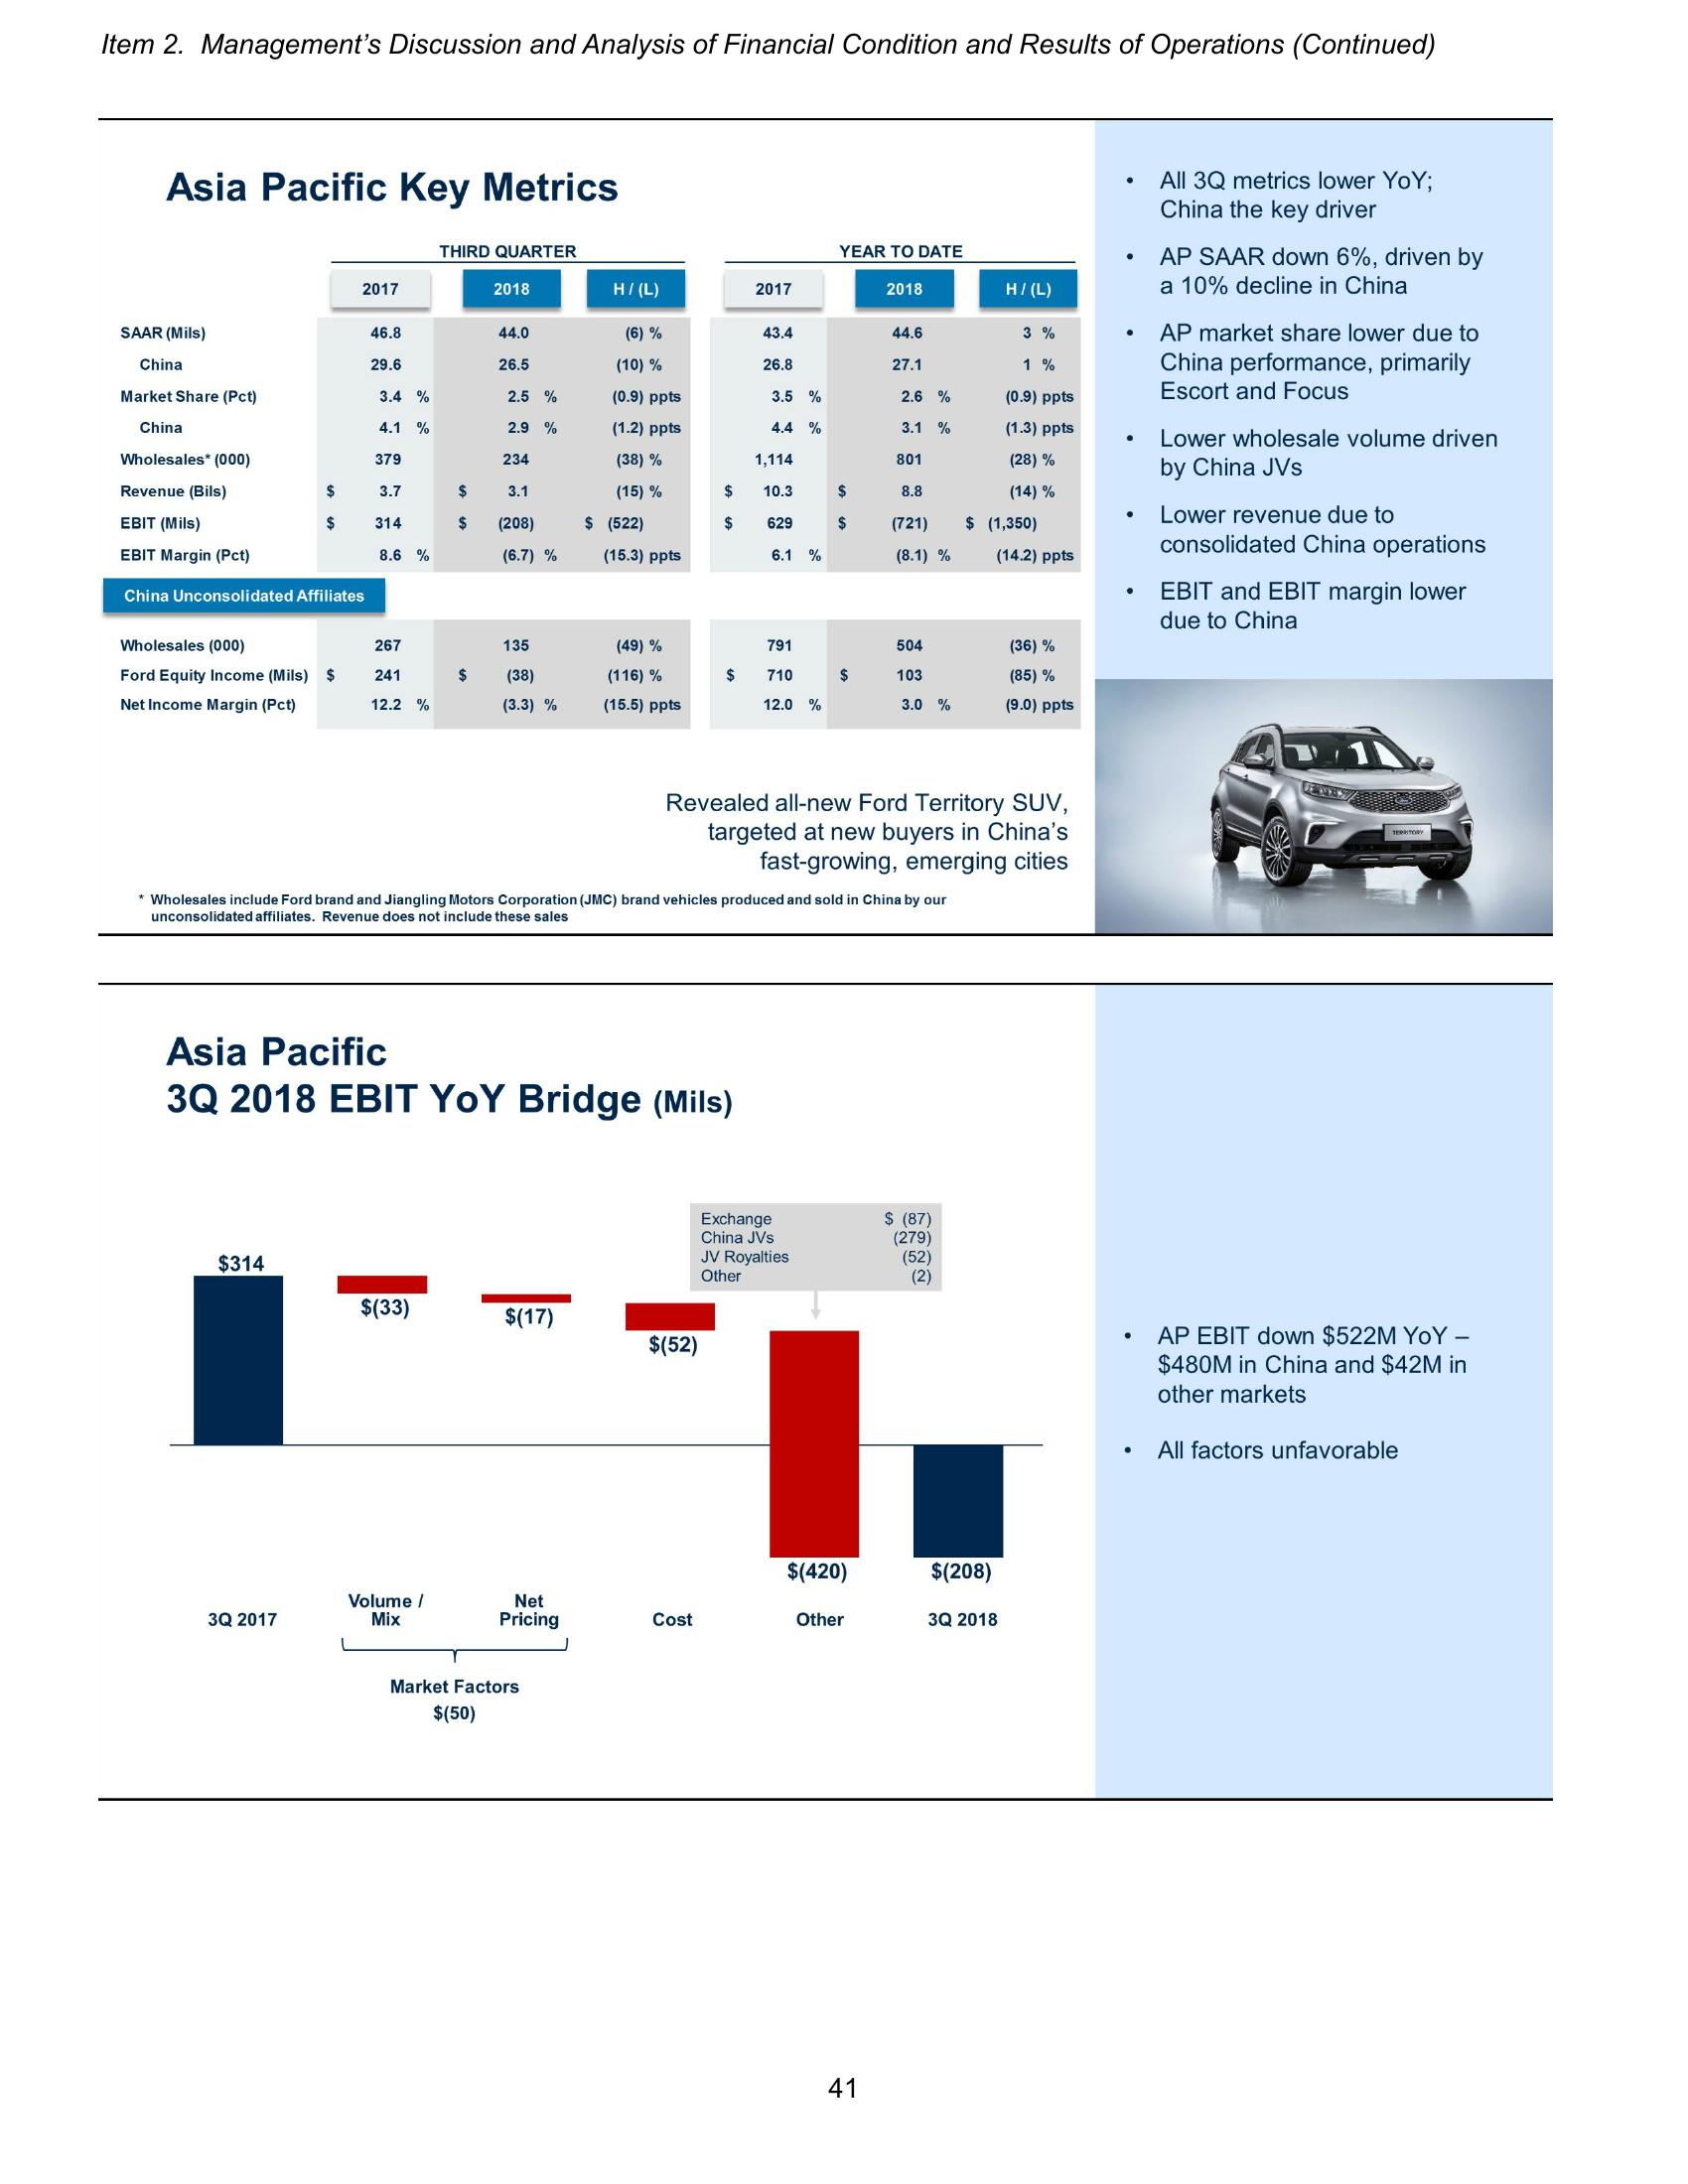table: (98, 234, 1085, 734)
